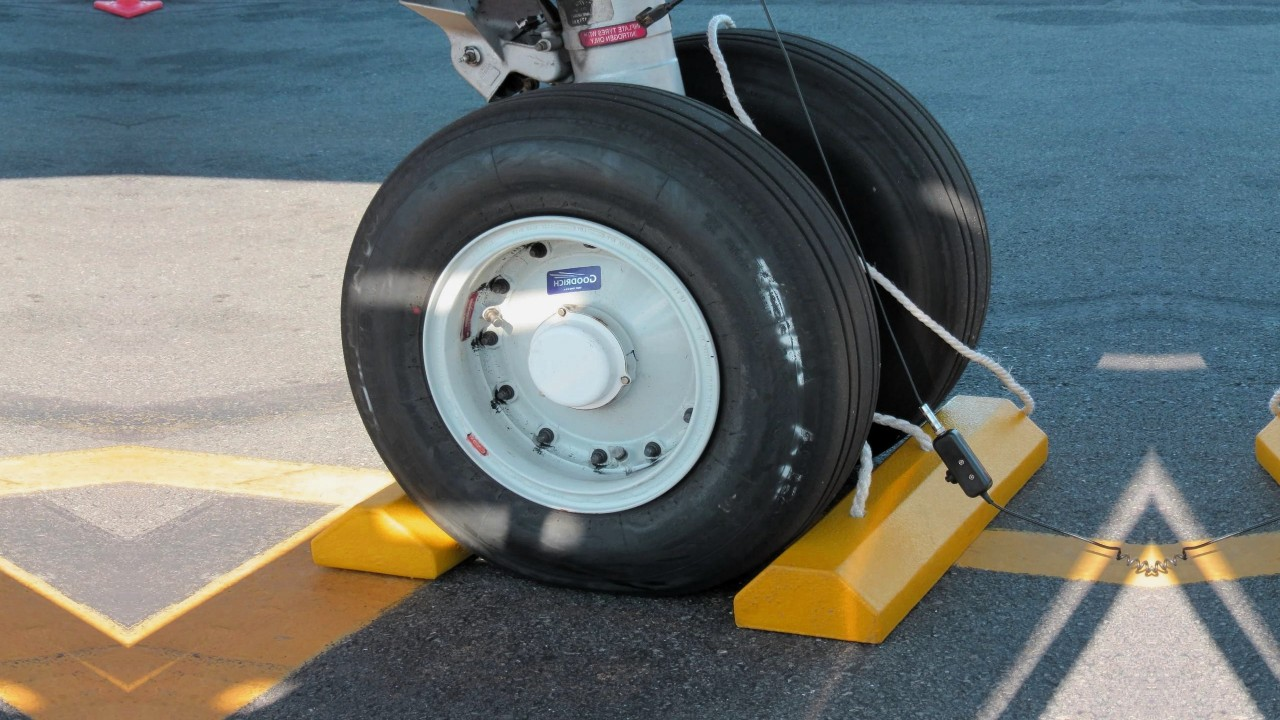chock: (731, 379, 1051, 644), (309, 378, 573, 576)
wheel: (339, 83, 876, 589), (685, 28, 987, 432)
